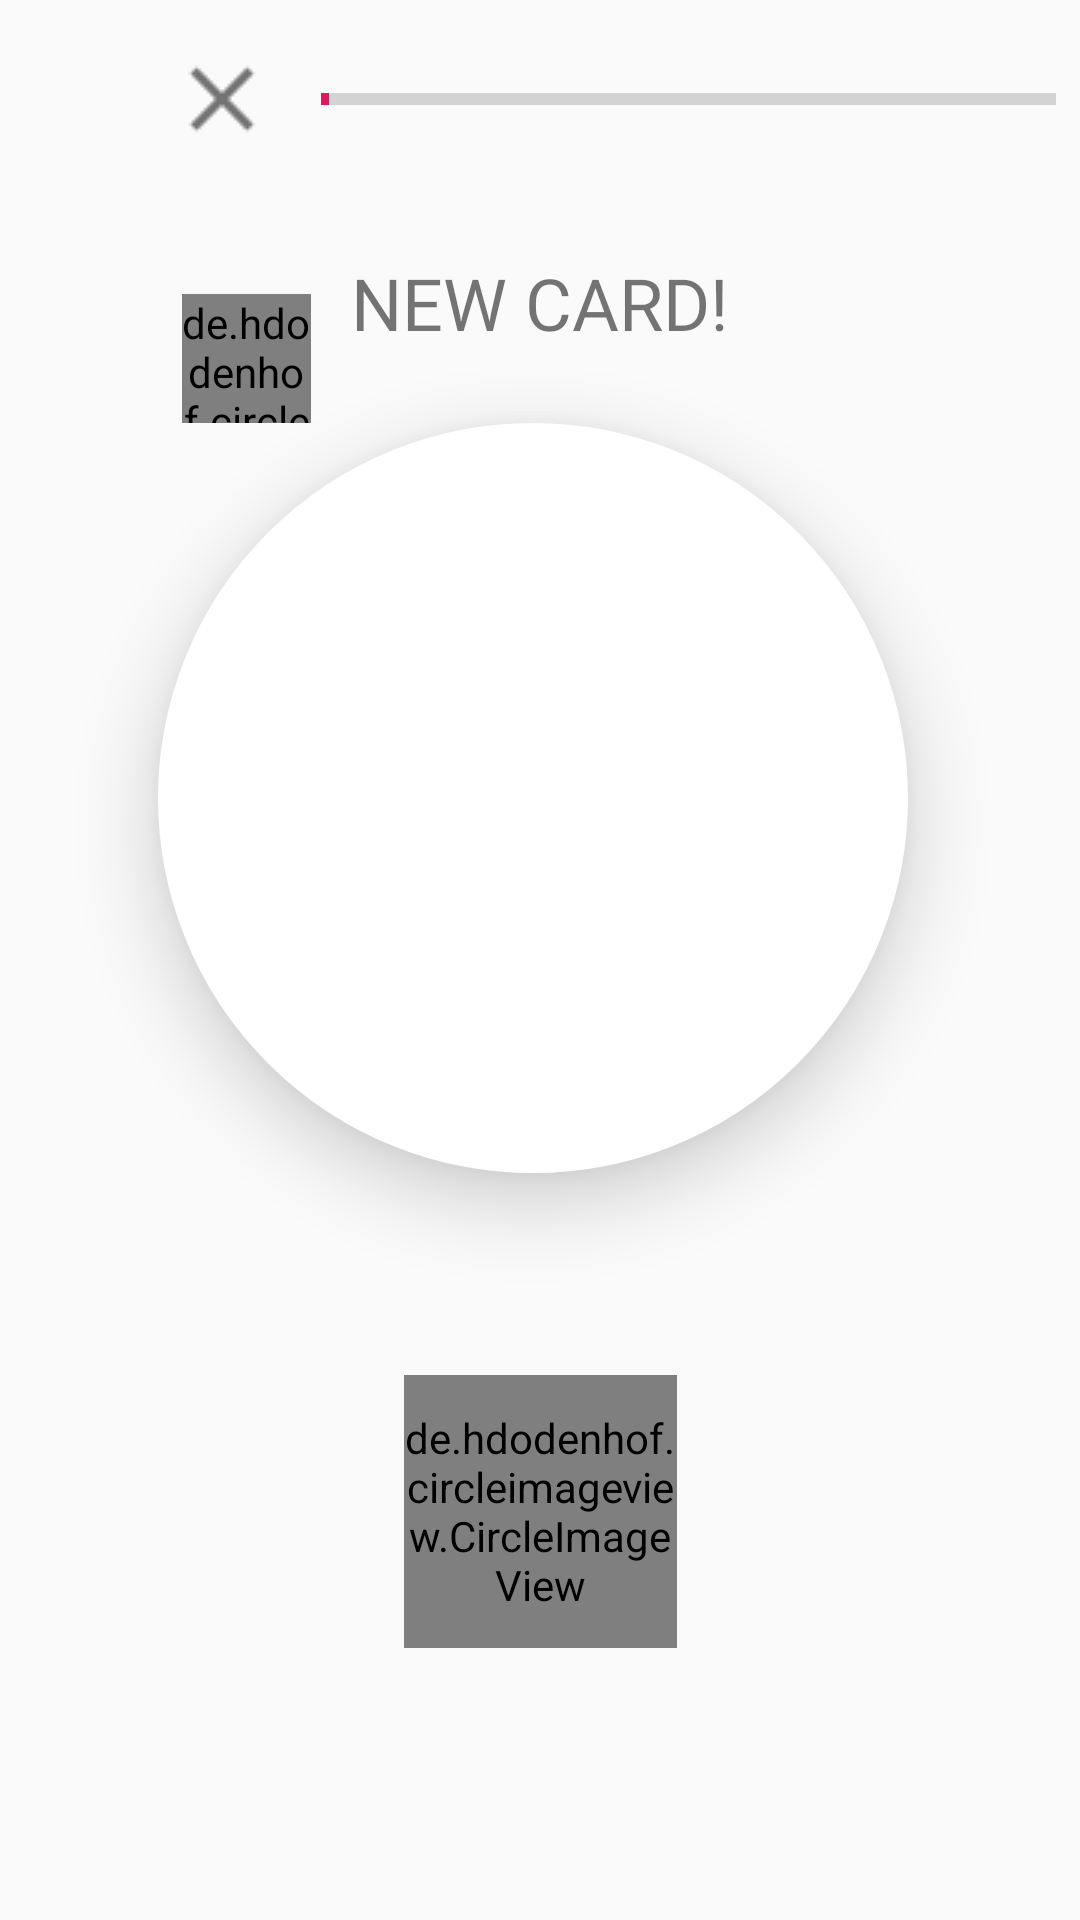

Named icons in this screenshot (1080px x 1920px) and their bounding boxes, Rect(x1, y1, x2, y2):
close fragment card: Rect(190, 67, 254, 131)
